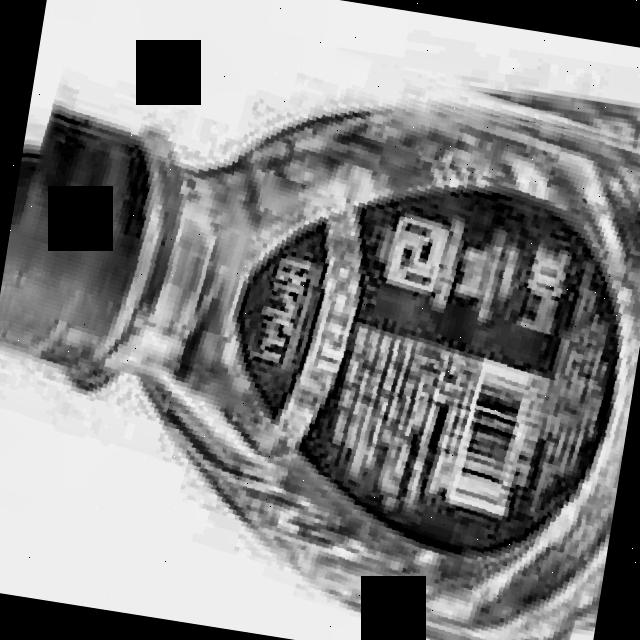bottle: (0, 100, 640, 640)
